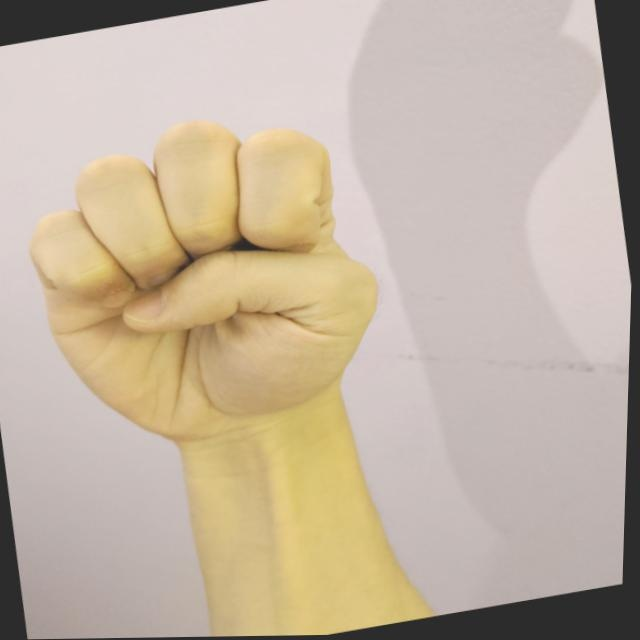E: (0, 88, 409, 469)
